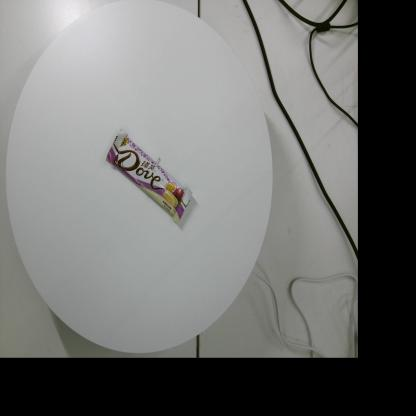Chocolate: (106, 129, 192, 223)
